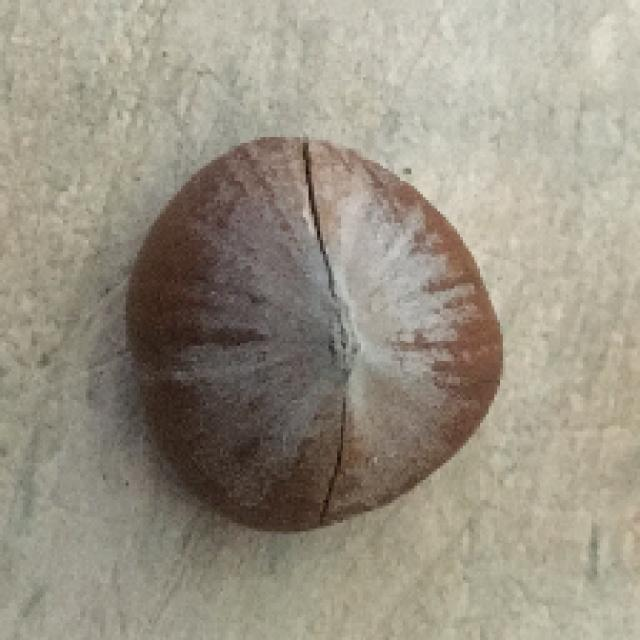qualityHazelnut: (128, 134, 505, 529)
